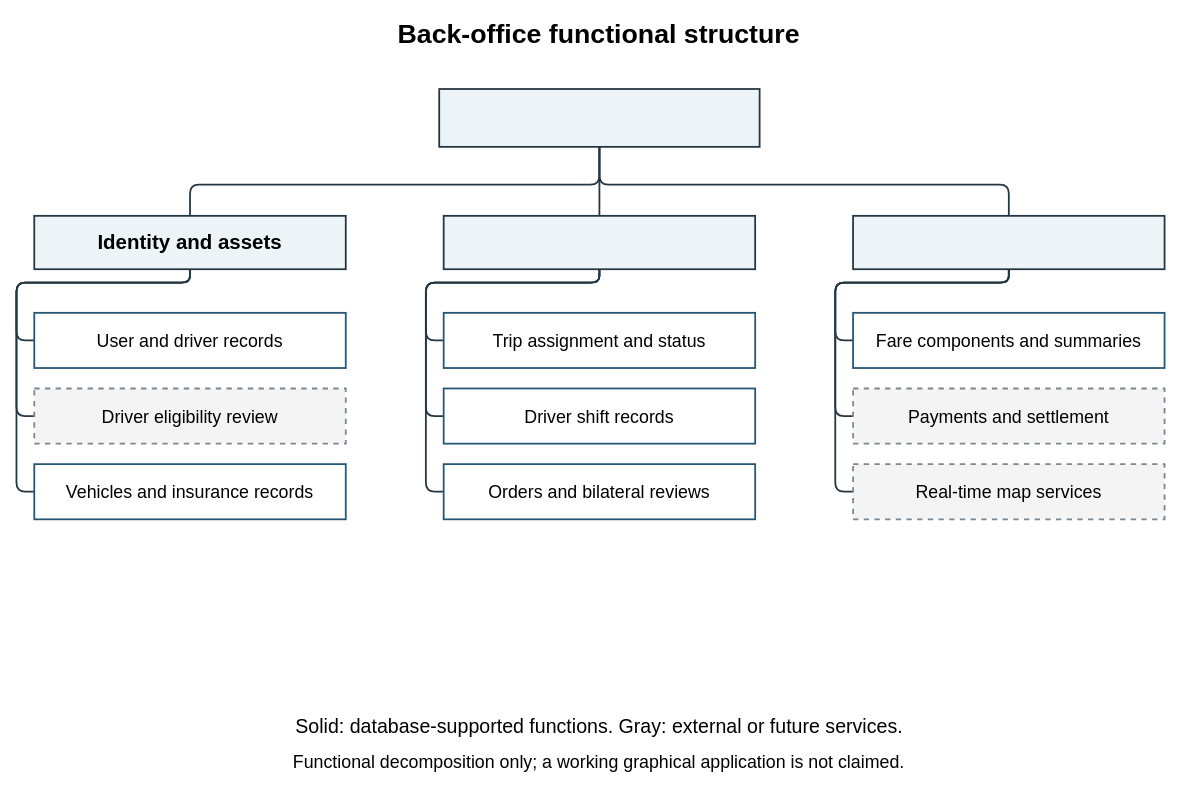
Some shapes in this 1180 by 789 pixel diagram are drawn without their labels. Each missing label, with the box of its shape:
Back-office services: (438, 88, 760, 147)
Finance and location: (852, 214, 1165, 270)
Operations: (442, 214, 756, 270)
